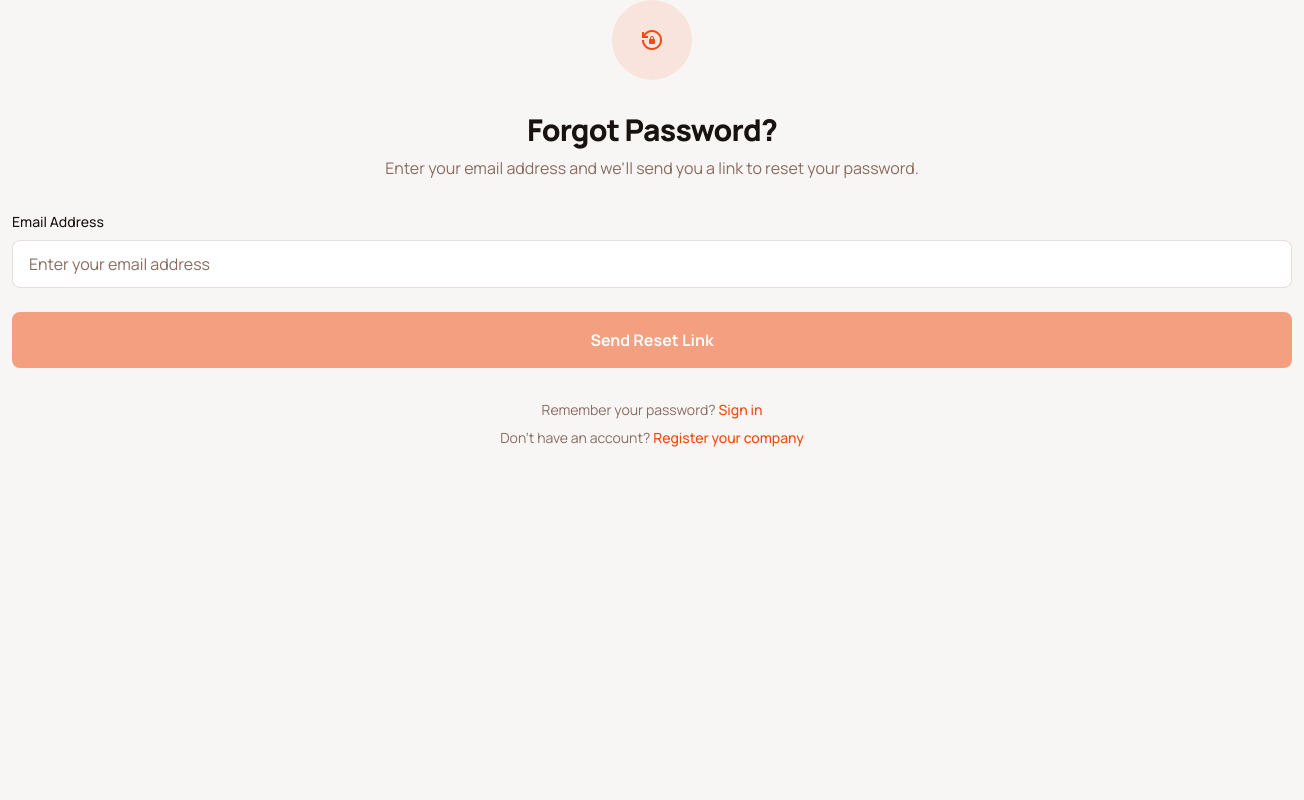
Scenario: ForgotPasswordPage (SOUPFIN-186) › shows the generic "link sent" message when the backend answers 200
Type "jane@acme.com" into the field with test id "forgot-password-email-input".
click(652, 264); type("jane@acme.com")  # box [12,240,1292,288]
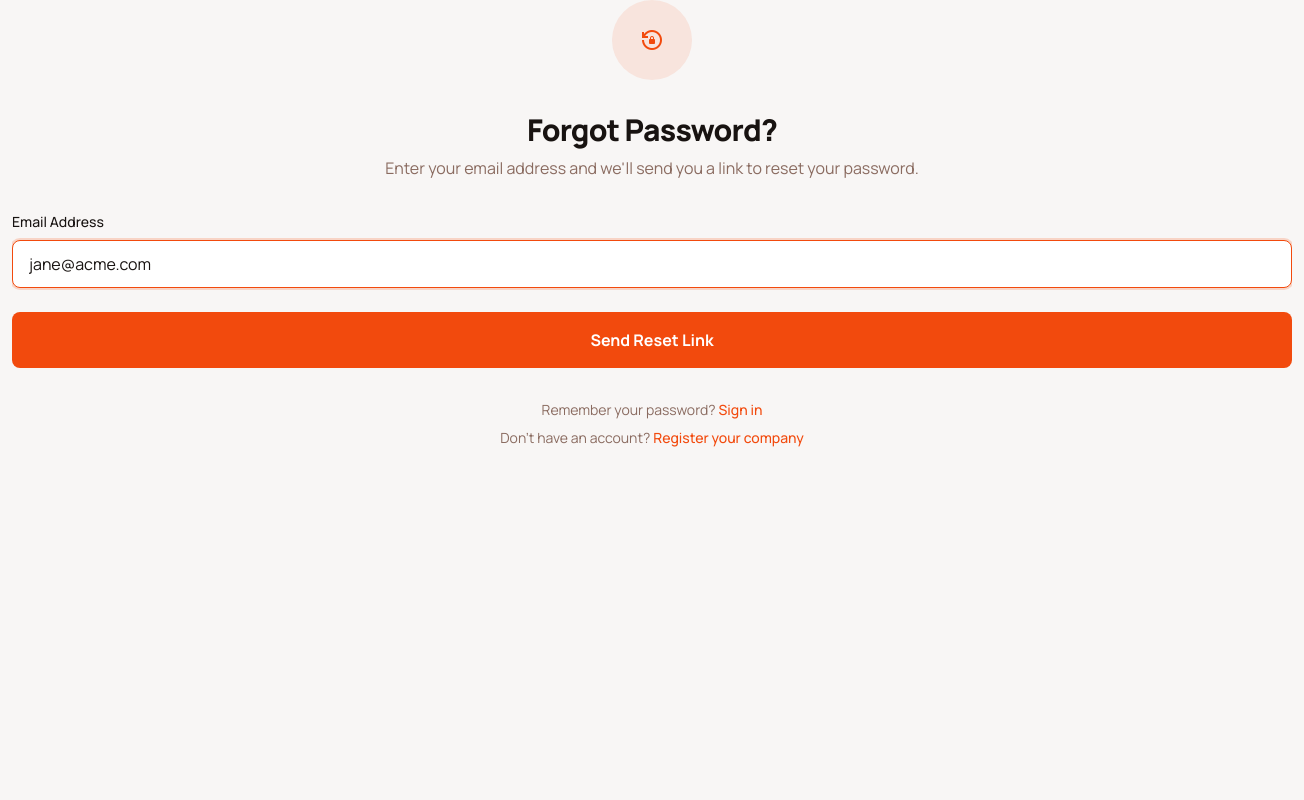
Click the button with test id "forgot-password-submit-button".
click(652, 340)  # box [12,312,1292,368]
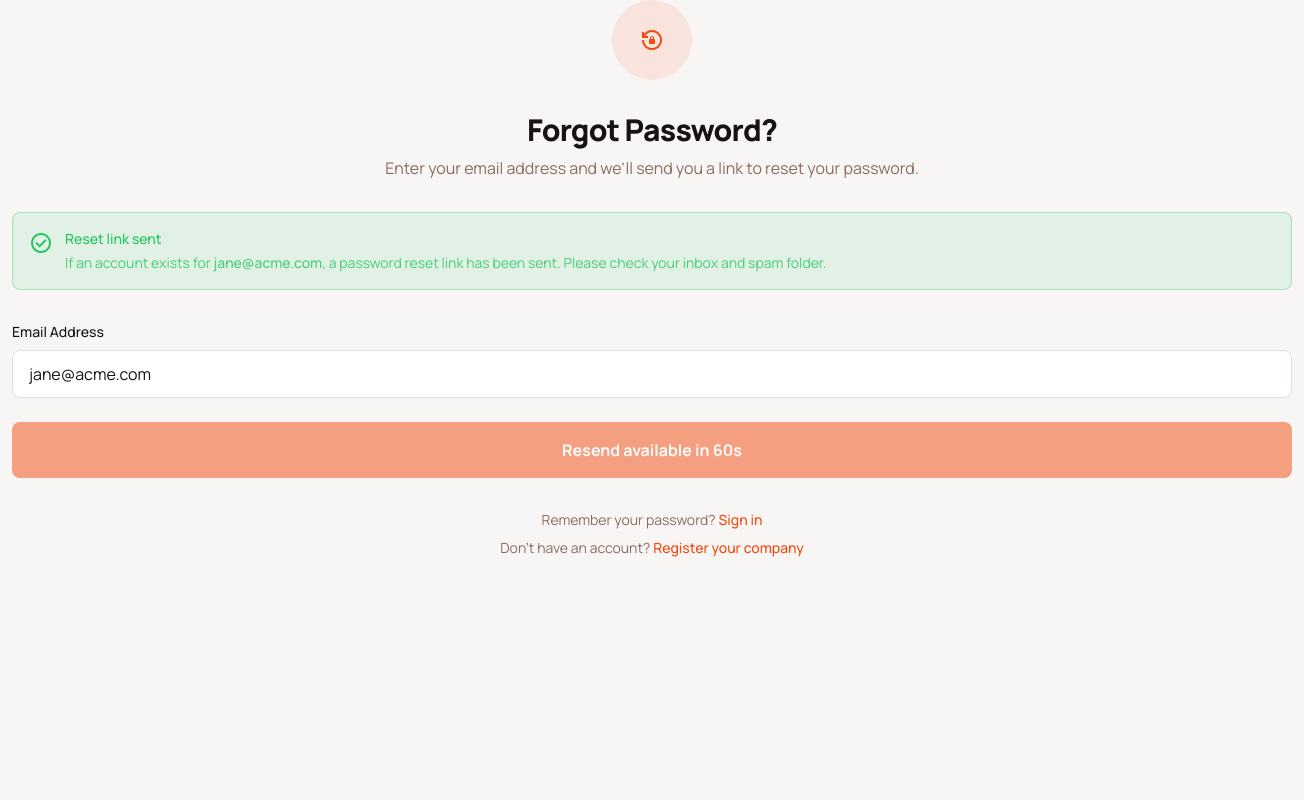
Result: the element with test id "forgot-password-success" shows "jane@acme.com" at [214,253,322,272]
